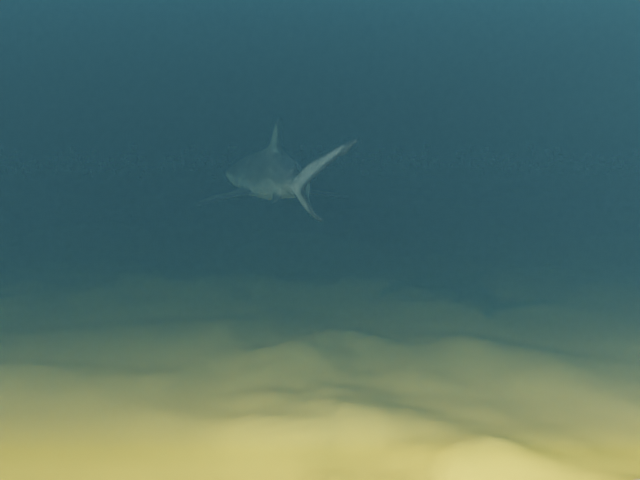Carribean Shark.001: (194, 119, 357, 221)
